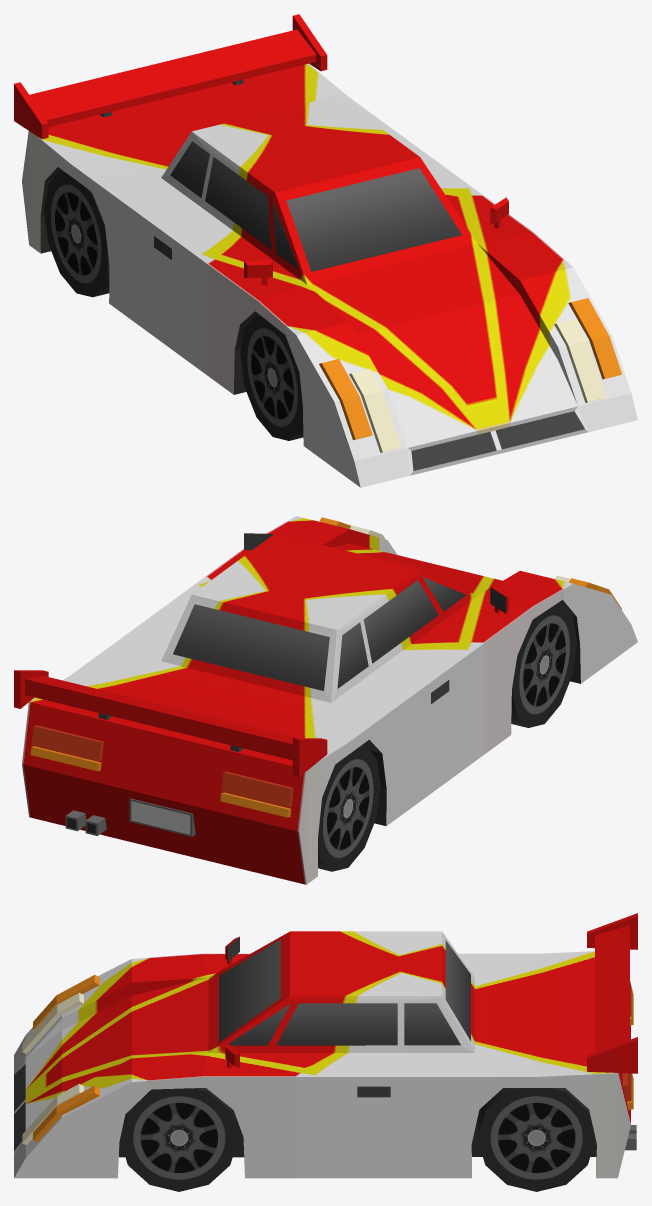
The model's file is RaceCarE.fbx.
The picture shows the model from 3 angles, top to bottom: view 1: azimuth 30°, elevation 25°; view 2: azimuth 150°, elevation 25°; view 3: azimuth 270°, elevation 25°; orthographic projection. The views are drawn at different scales.
Parts seen in each view (by area): view 1: RaceCarE, TireBR, TireFR; view 2: RaceCarE, TireFR, TireBR; view 3: RaceCarE, TireBL, TireFL.
Part boxes in pixels (x1,y1,x2,y2): RaceCarE: (14, 14, 637, 487); TireBR: (44, 171, 109, 297); TireFR: (240, 314, 303, 440); RaceCarE: (14, 516, 637, 884); TireFR: (511, 602, 576, 727); TireBR: (318, 745, 380, 871); RaceCarE: (14, 913, 637, 1178); TireBL: (477, 1088, 595, 1191); TireFL: (120, 1088, 238, 1191).
Bounding box in the file's own units: 194 × 120 × 404.
